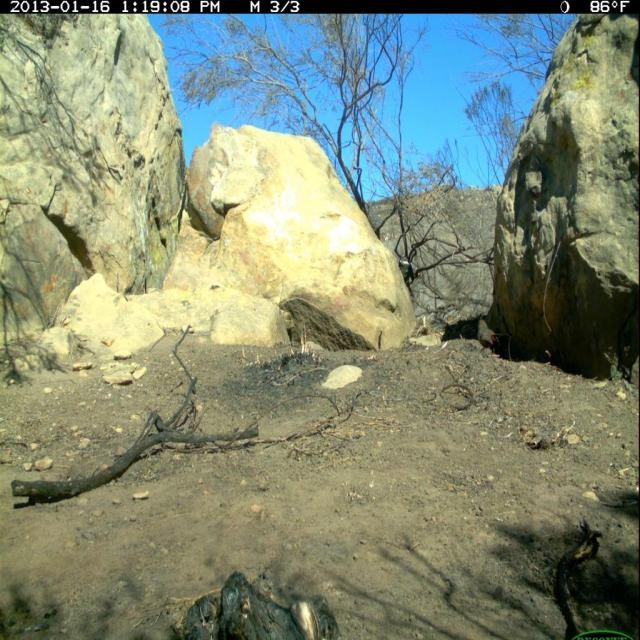bird: (476, 317, 514, 354)
